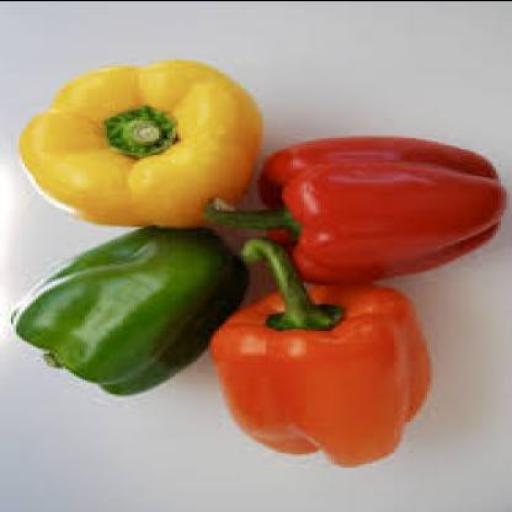biodegradable: (208, 240, 430, 468), (202, 136, 509, 286), (11, 61, 260, 229), (5, 228, 244, 398)
